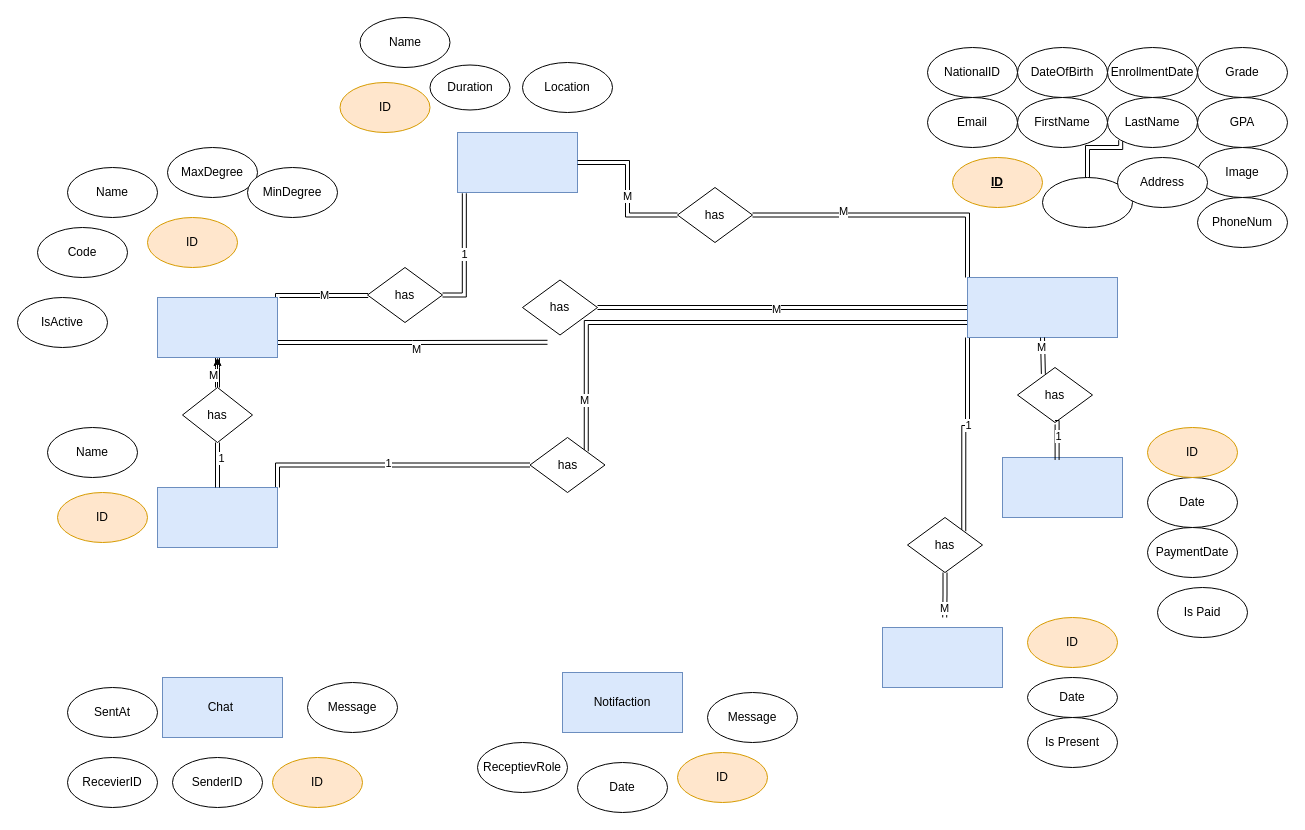
Some shapes in this 1305 by 830 pixel diagram are drawn without their labels. Here are the shapes that lost their labels. From the top down, the box of each, then its label:
(456, 132, 578, 192): Exams
(1042, 176, 1132, 228): FullName
(156, 296, 278, 358): Course
(966, 276, 1118, 338): Student
(1002, 456, 1122, 518): Fees
(156, 486, 278, 548): Department
(882, 626, 1002, 688): Attendance
